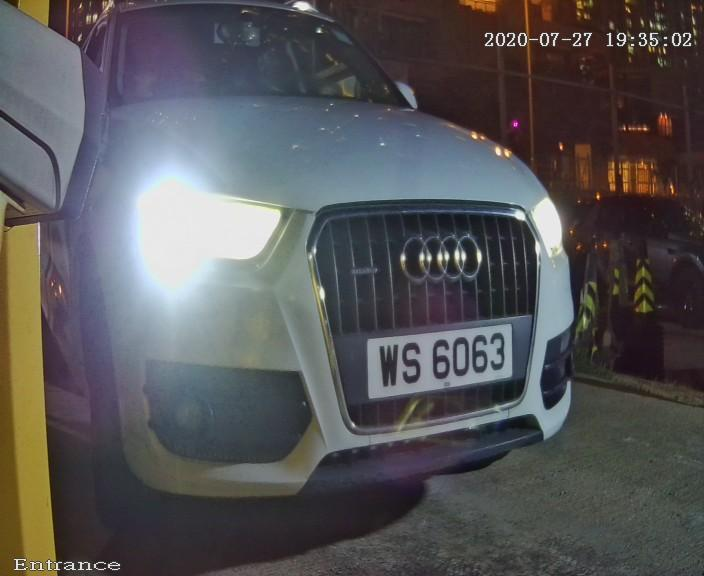privatecar: (38, 8, 598, 535)
